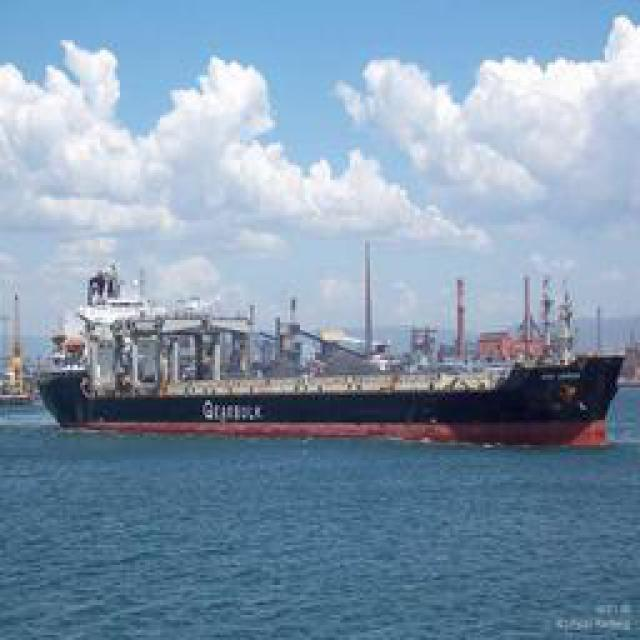Ship: (22, 286, 625, 451)
